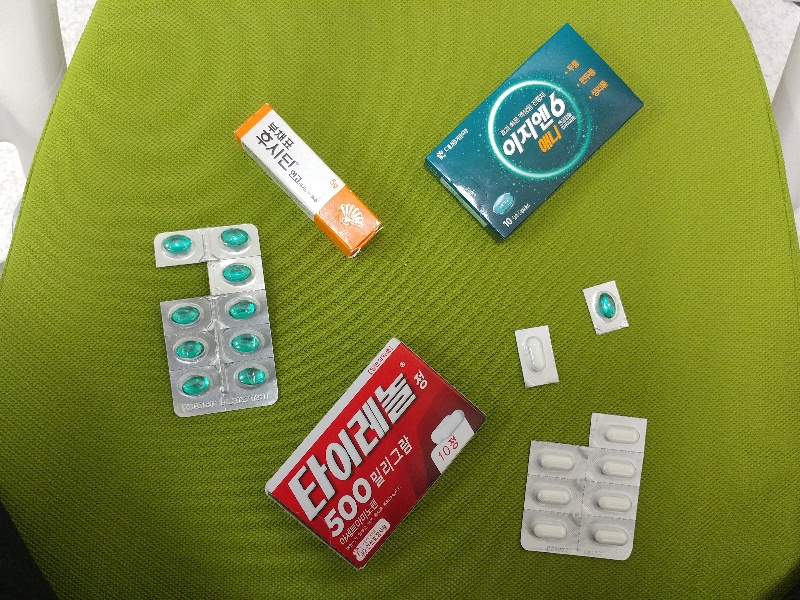ezn: (425, 25, 643, 242)
fucidin: (237, 102, 383, 252)
pill_ezn: (581, 280, 629, 333), (171, 369, 224, 402), (167, 334, 219, 367), (211, 258, 262, 291), (155, 231, 204, 264), (225, 360, 277, 391), (217, 293, 265, 326), (220, 329, 272, 358), (210, 224, 259, 254), (165, 298, 209, 330)
tylenol: (267, 339, 487, 570)
